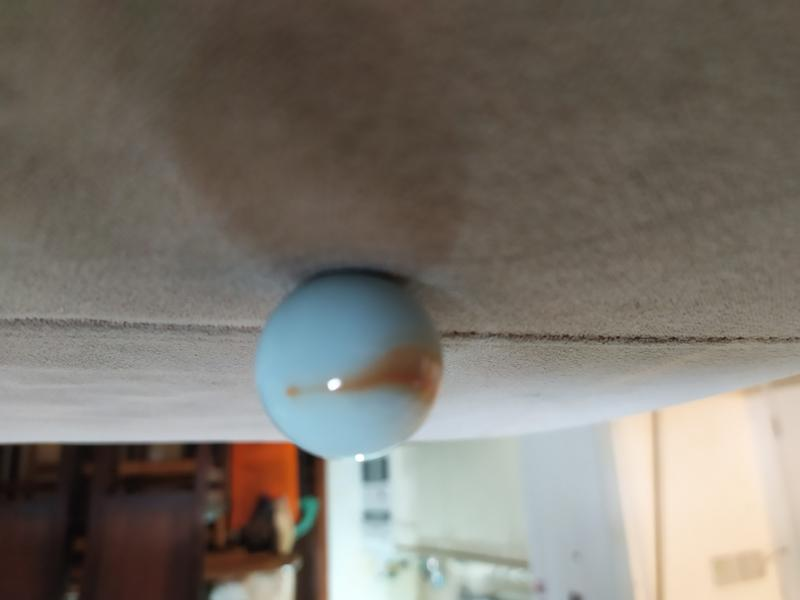Warning: (250, 265, 450, 465)
